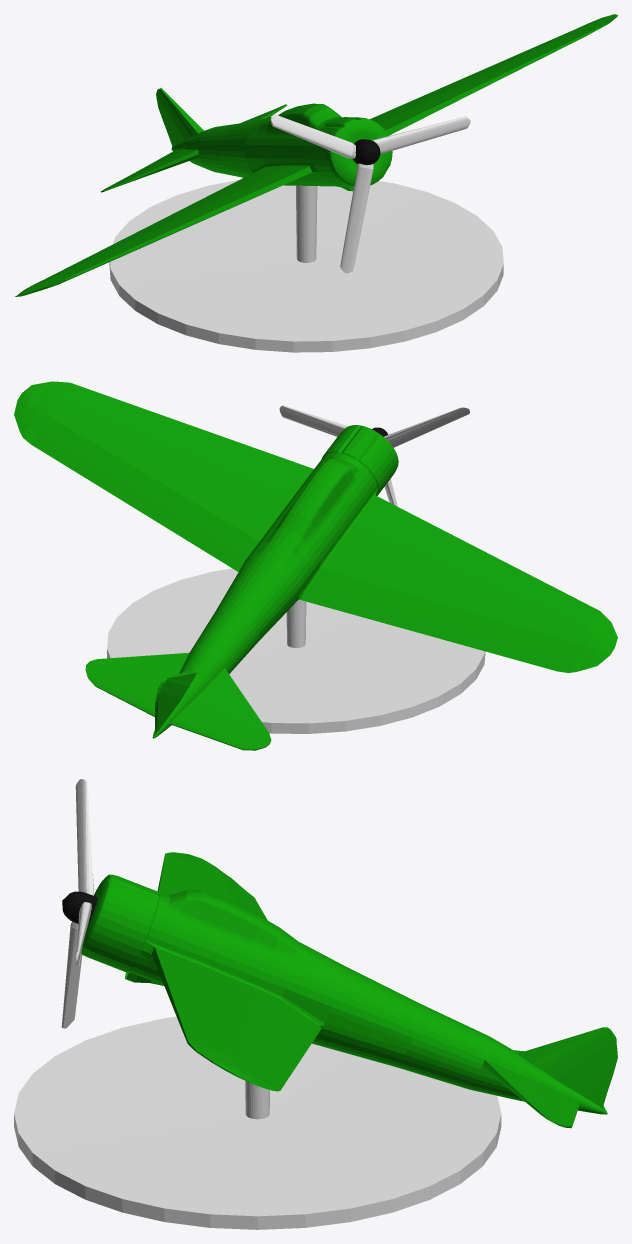
3 views of the same model, one above another, from view 1: azimuth 30°, elevation 25°; view 2: azimuth 150°, elevation 25°; view 3: azimuth 270°, elevation 25° (orthographic). The views are drawn at different scales.
Parts seen in each view (by area): view 1: Base, Plane, Rotor, Rotor.001, Rotor.002, Elice; view 2: Plane, Base, Rotor.002, Rotor.001; view 3: Base, Plane, Rotor.002, Rotor, Elice.
Part boxes in pixels (<box>): Base: <box>109,179,503,352</box>; Plane: <box>15,14,617,296</box>; Rotor: <box>340,163,373,273</box>; Rotor.001: <box>372,116,470,154</box>; Rotor.002: <box>270,114,355,158</box>; Elice: <box>353,139,380,165</box>; Plane: <box>14,381,617,750</box>; Base: <box>107,568,485,733</box>; Rotor.002: <box>384,407,469,447</box>; Rotor.001: <box>279,405,347,436</box>; Base: <box>14,1016,501,1229</box>; Plane: <box>81,852,617,1128</box>; Rotor.002: <box>75,779,93,895</box>; Rotor: <box>61,921,82,1028</box>; Elice: <box>62,891,97,923</box>.
Size of the model in its own units: 20.44 by 7.43 by 14.27.
